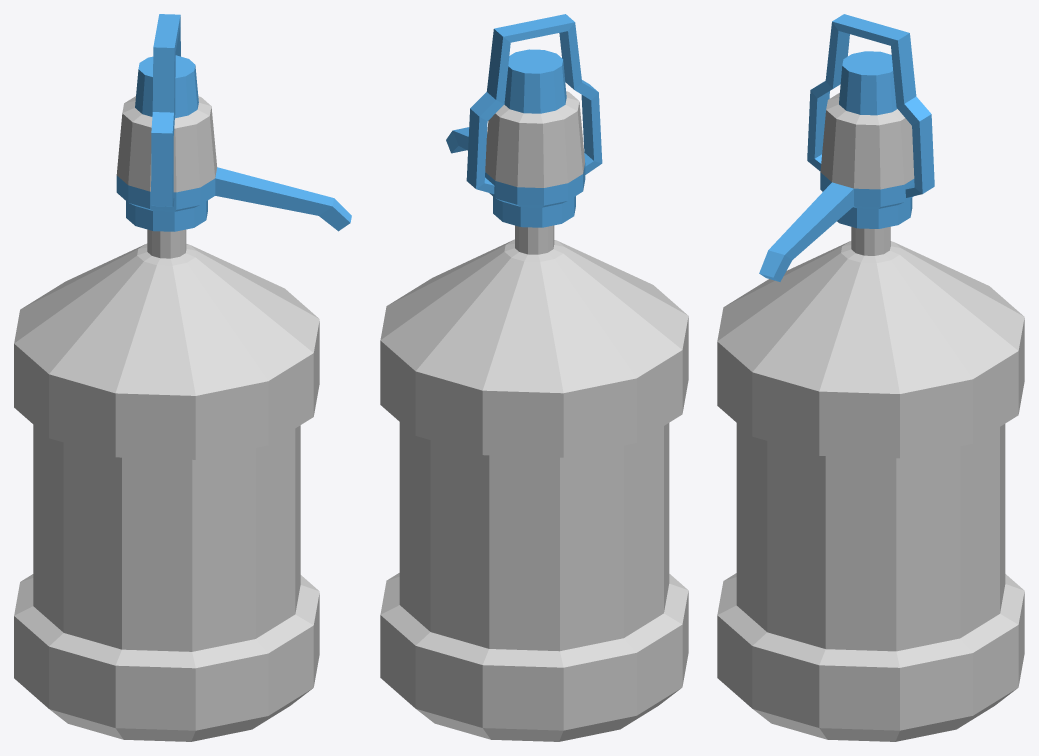
The model's file is waterpump.glb.
The picture shows the model from 3 angles, left to right: view 1: azimuth 30°, elevation 25°; view 2: azimuth 150°, elevation 25°; view 3: azimuth 270°, elevation 25°; orthographic projection.
Parts seen in each view (by area): view 1: Cooler; view 2: Cooler; view 3: Cooler.
Part boxes in pixels (bbox=[...]): Cooler: bbox=[14, 14, 351, 741]; Cooler: bbox=[380, 14, 688, 741]; Cooler: bbox=[717, 14, 1024, 741].
Size of the model in its own units: 0.2392 by 0.5583 by 0.2356.
Materials: 1 (1 with a texture image).
